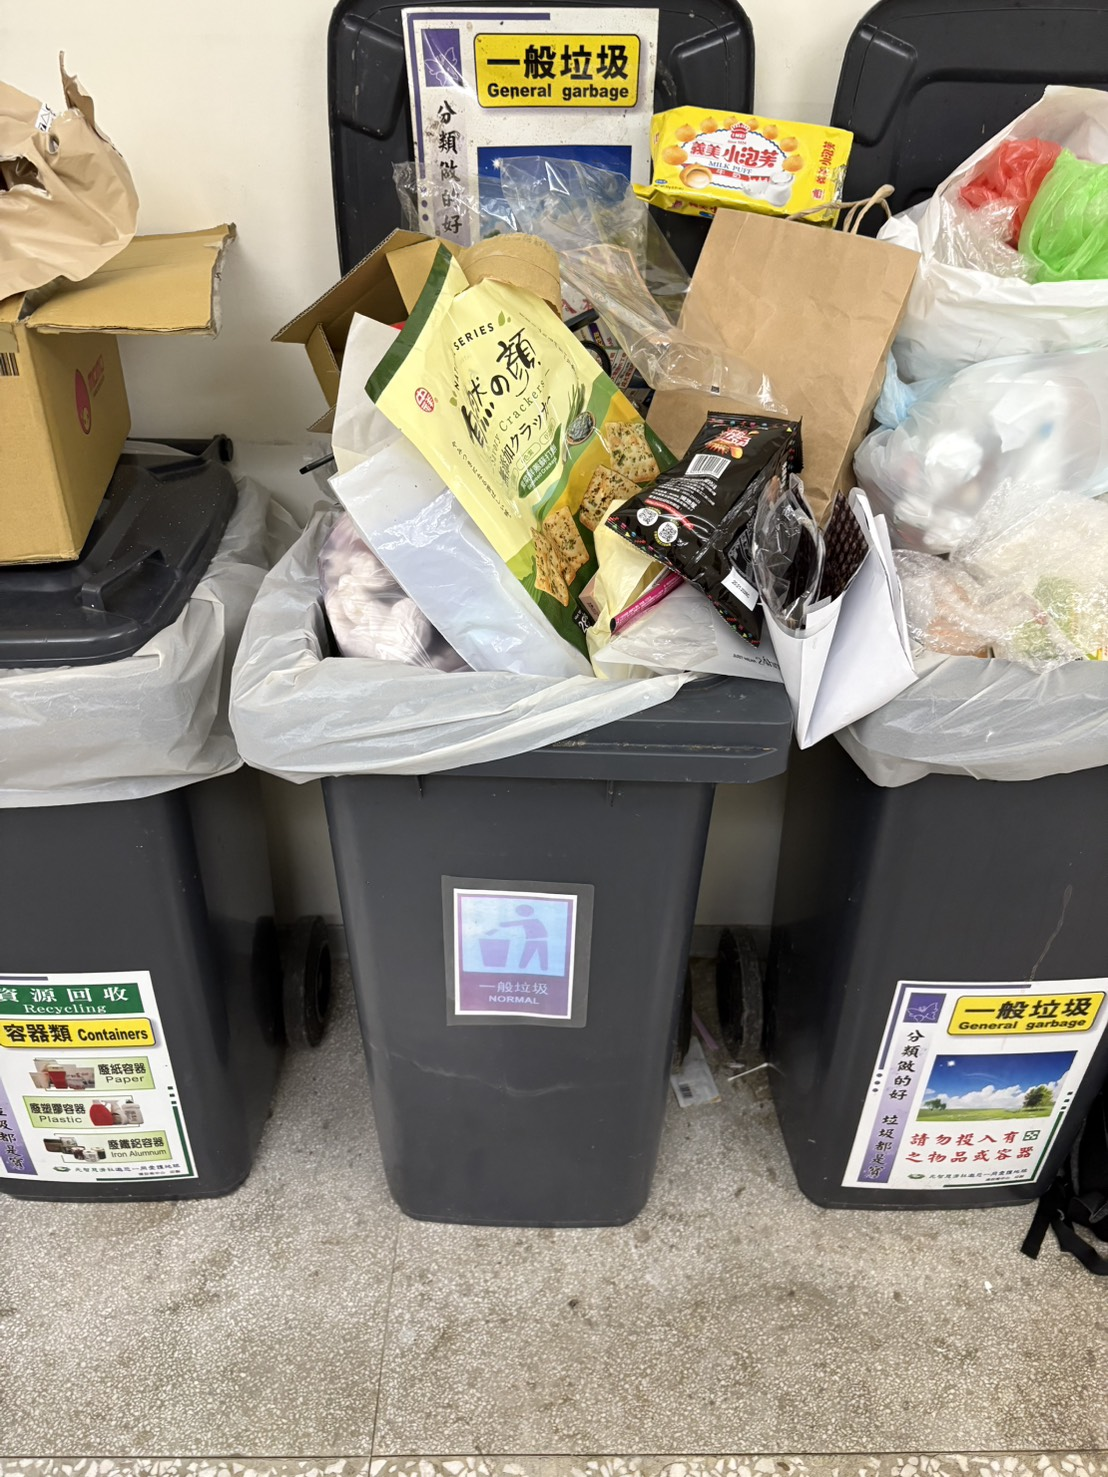overflow_bin: (260, 3, 841, 1247)
